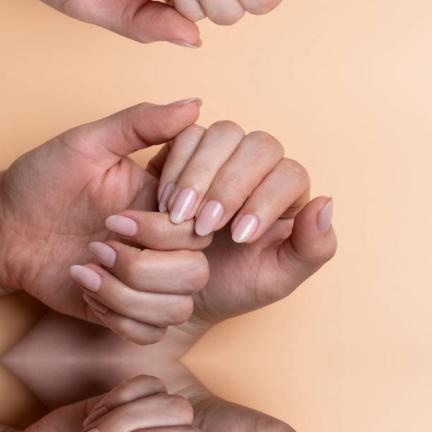Nail: (195, 199, 224, 235), (170, 186, 197, 223), (69, 264, 102, 291), (232, 213, 259, 242), (88, 241, 116, 267), (105, 214, 138, 236), (317, 197, 333, 232), (83, 293, 109, 313), (83, 406, 109, 426), (159, 182, 176, 212), (167, 96, 202, 106), (167, 38, 202, 48), (85, 427, 100, 432)
